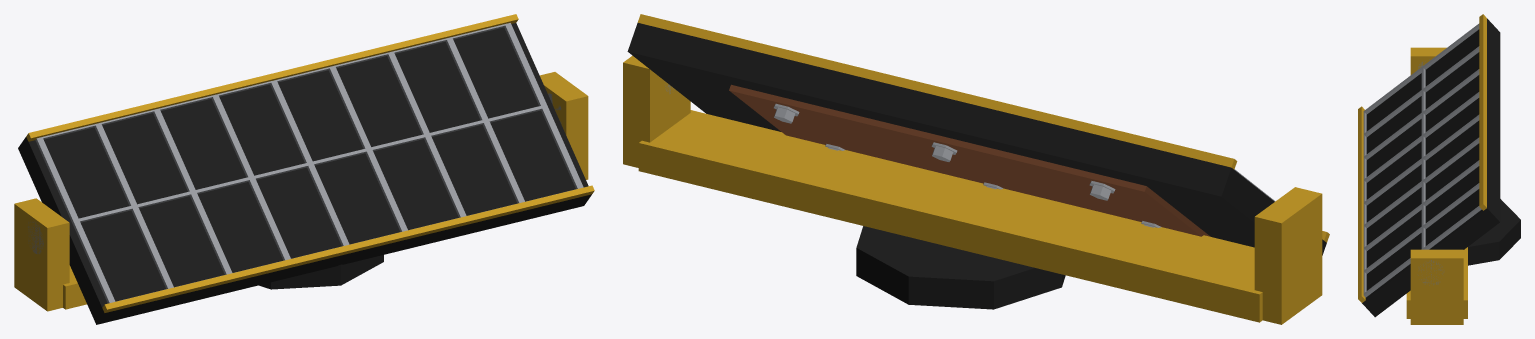
Rendered from dr5_array.obj.
The picture shows the model from 3 angles, left to right: view 1: azimuth 30°, elevation 25°; view 2: azimuth 150°, elevation 25°; view 3: azimuth 270°, elevation 25°; orthographic projection. The views are drawn at different scales.
Parts seen in each view (by area): view 1: dr5_array; view 2: dr5_array; view 3: dr5_array.
Boxes of the visible parts, box(x1,y1,x2,y2) form: dr5_array: box(14, 14, 594, 324); dr5_array: box(623, 14, 1329, 324); dr5_array: box(1358, 14, 1520, 324).
Bounding box in the file's own units: 2.44 × 0.6984 × 0.7978.
